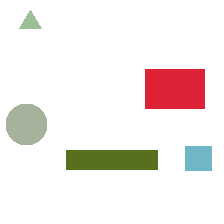circle: (6, 104, 46, 144)
rectangle: (145, 69, 204, 108), (66, 150, 157, 169), (185, 146, 211, 170)
triangle: (19, 10, 41, 28)
